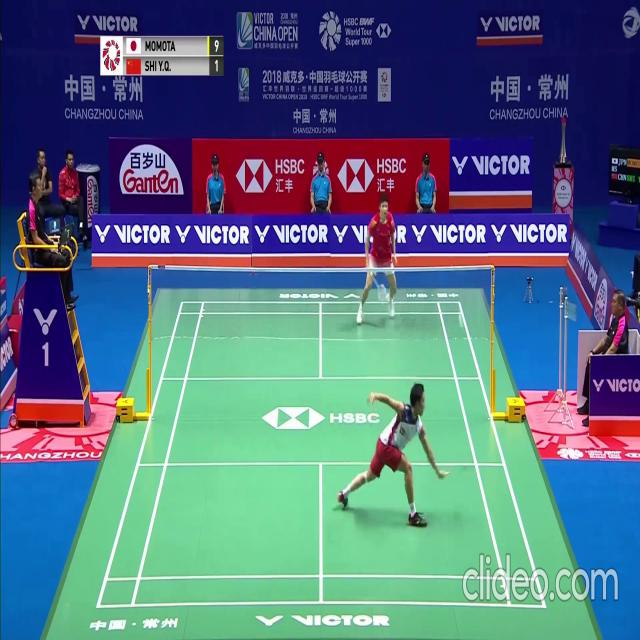Shuttlecock: (458, 314, 462, 321)
